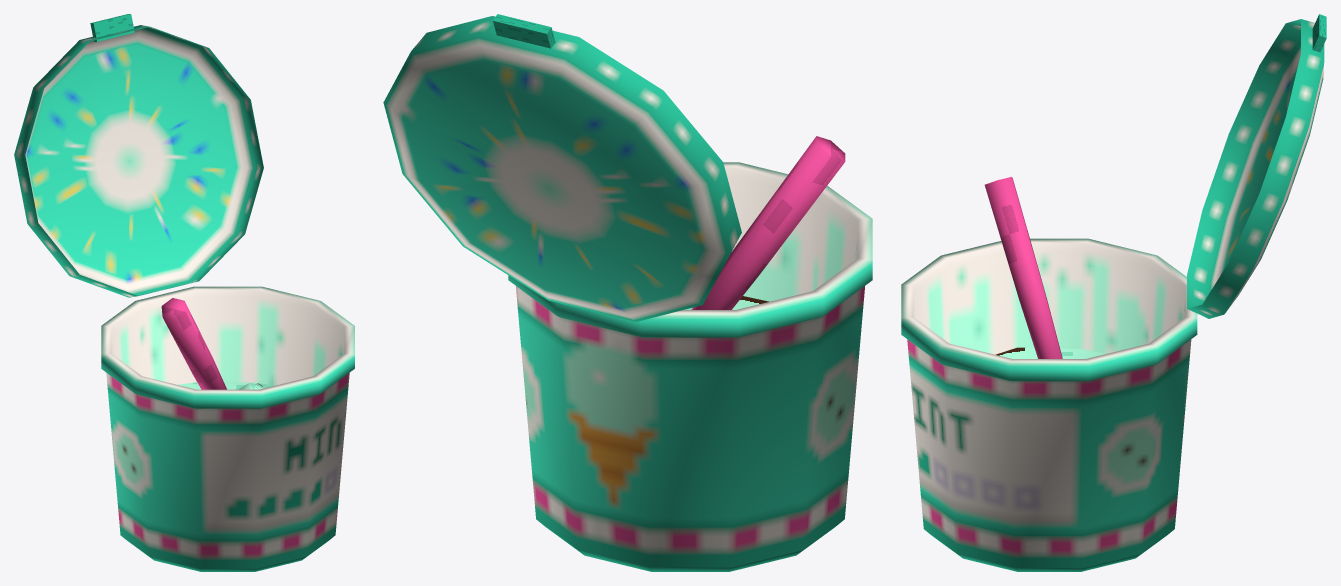
File: Flavor Tub Mint Half.fbx
The picture shows the model from 3 angles, left to right: view 1: azimuth 30°, elevation 25°; view 2: azimuth 150°, elevation 25°; view 3: azimuth 270°, elevation 25°; orthographic projection. The views are drawn at different scales.
Parts seen in each view (by area): view 1: Flavor Tub Mint Half tub, Flavor Tub Mint Half lid, Flavor Tub Mint Half scooper handle, Flavor Tub Mint Half lid tab; view 2: Flavor Tub Mint Half tub, Flavor Tub Mint Half lid, Flavor Tub Mint Half scooper handle, Flavor Tub Mint Half lid tab; view 3: Flavor Tub Mint Half tub, Flavor Tub Mint Half lid, Flavor Tub Mint Half scooper handle, Flavor Tub Mint Half ice cream.
Boxes of the visible parts, x1=… form: Flavor Tub Mint Half tub: x1=101, y1=286, x2=354, y2=571; Flavor Tub Mint Half lid: x1=14, y1=25, x2=263, y2=297; Flavor Tub Mint Half scooper handle: x1=161, y1=298, x2=226, y2=389; Flavor Tub Mint Half lid tab: x1=90, y1=14, x2=134, y2=41; Flavor Tub Mint Half tub: x1=508, y1=162, x2=872, y2=571; Flavor Tub Mint Half lid: x1=383, y1=16, x2=741, y2=321; Flavor Tub Mint Half scooper handle: x1=691, y1=136, x2=845, y2=309; Flavor Tub Mint Half lid tab: x1=493, y1=14, x2=555, y2=48; Flavor Tub Mint Half tub: x1=901, y1=238, x2=1197, y2=571; Flavor Tub Mint Half lid: x1=1187, y1=19, x2=1324, y2=318; Flavor Tub Mint Half scooper handle: x1=984, y1=177, x2=1062, y2=358; Flavor Tub Mint Half ice cream: x1=996, y1=347, x2=1106, y2=358.
Bounding box in the file's own units: 0.3033 × 0.5406 × 0.4191.
Materials: 7 (6 with a texture image).
